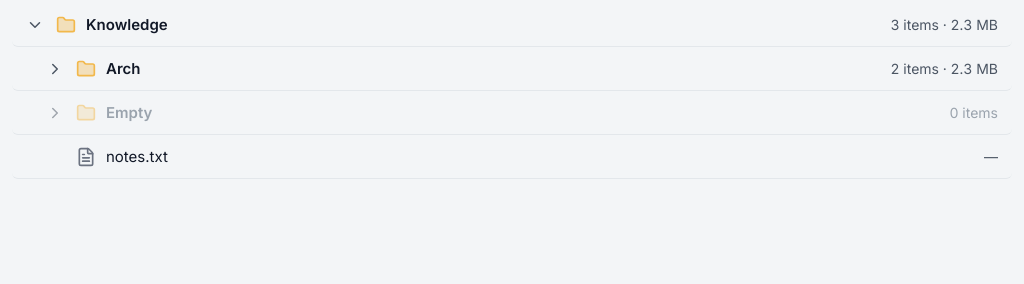
Test: TreeView › expands and collapses a folder with its chevron
What coordinates should you click on to do the following:
click the button named "Expand Arch"
I would click on:
 (55, 68)
Its box is [44, 58, 66, 80].
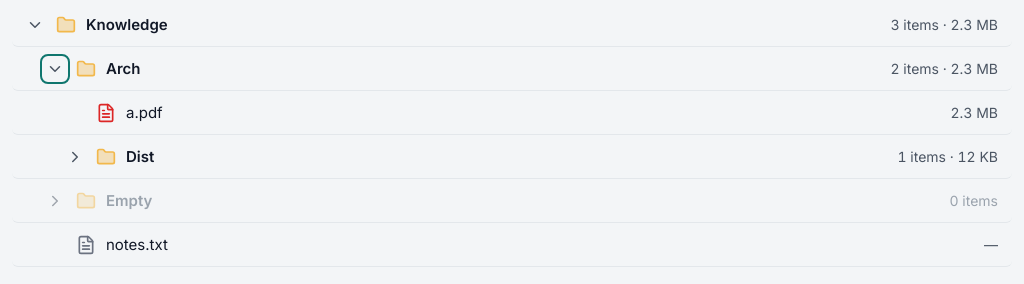
Check: the text "a.pdf" is shown, box [126, 103, 163, 122]
What coordinates should you click on to do the following:
click the button named "Collapse Arch"
I would click on:
 (55, 68)
Its box is [44, 58, 66, 80].
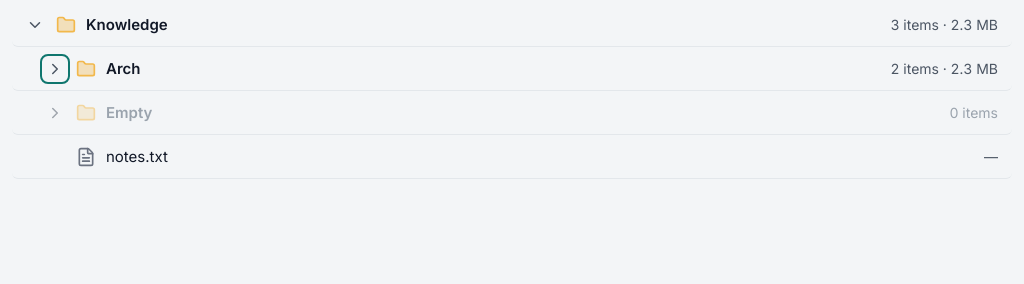
Check: the text "a.pdf" is gone
